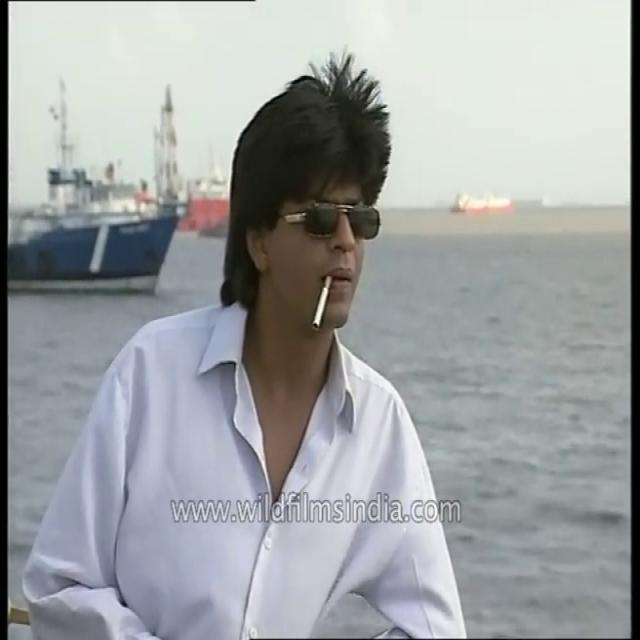Smooking: (302, 265, 339, 347)
